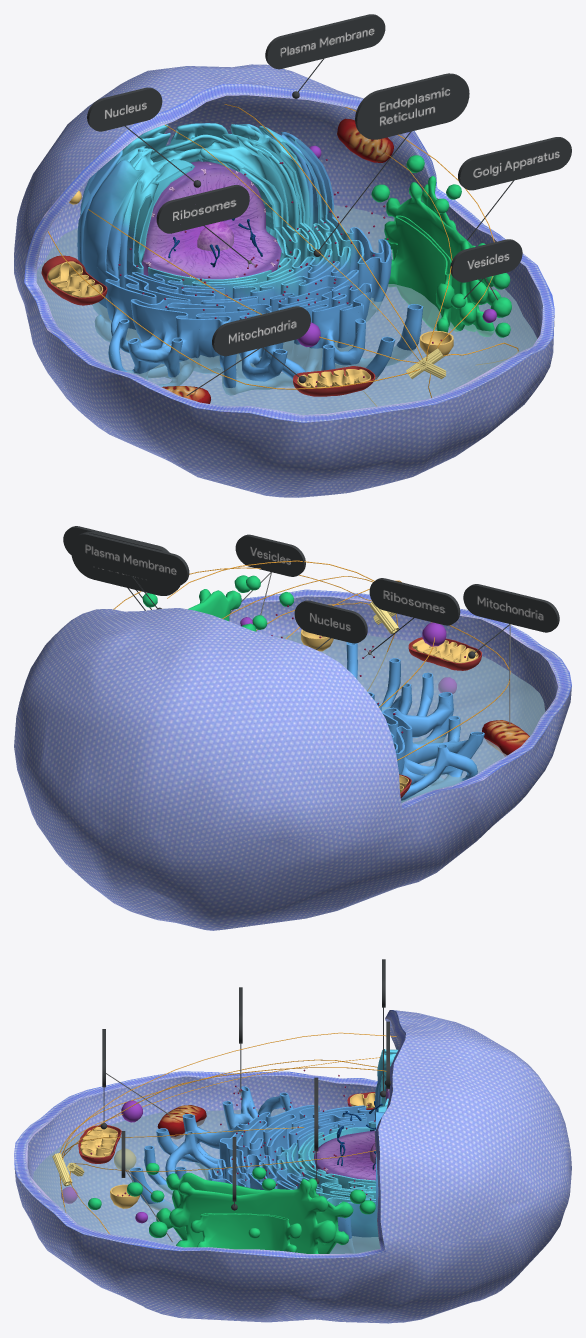
The model's file is eukaryotecell.glb.
3 renders of one model, top to bottom at view 1: azimuth 30°, elevation 25°; view 2: azimuth 150°, elevation 25°; view 3: azimuth 270°, elevation 25°, orthographic. The views are drawn at different scales.
Visible parts, largest first — view 1: plasma membrane.001_0, Contents of cell.001_1, Labels V004.001_2, Cytoplasma.002_4; view 2: plasma membrane.001_0, Labels V004.001_2, Contents of cell.001_1, Cytoplasma.002_4; view 3: plasma membrane.001_0, Contents of cell.001_1, Cytoplasma.002_4, Labels V004.001_2.
Boxes of the visible parts, x1=… form: plasma membrane.001_0: x1=14, y1=64, x2=554, y2=497; Contents of cell.001_1: x1=41, y1=104, x2=518, y2=406; Labels V004.001_2: x1=87, y1=14, x2=571, y2=383; Cytoplasma.002_4: x1=36, y1=205, x2=536, y2=414; plasma membrane.001_0: x1=14, y1=589, x2=571, y2=930; Labels V004.001_2: x1=63, y1=526, x2=559, y2=658; Contents of cell.001_1: x1=113, y1=560, x2=529, y2=802; Cytoplasma.002_4: x1=274, y1=632, x2=545, y2=802; plasma membrane.001_0: x1=14, y1=1010, x2=571, y2=1323; Contents of cell.001_1: x1=52, y1=1032, x2=397, y2=1253; Cytoplasma.002_4: x1=33, y1=1109, x2=379, y2=1253; Labels V004.001_2: x1=100, y1=959, x2=391, y2=1210.
Bounding box in the file's own units: 0.5817 × 0.3928 × 0.6717.
Materials: 13 (6 with a texture image).
